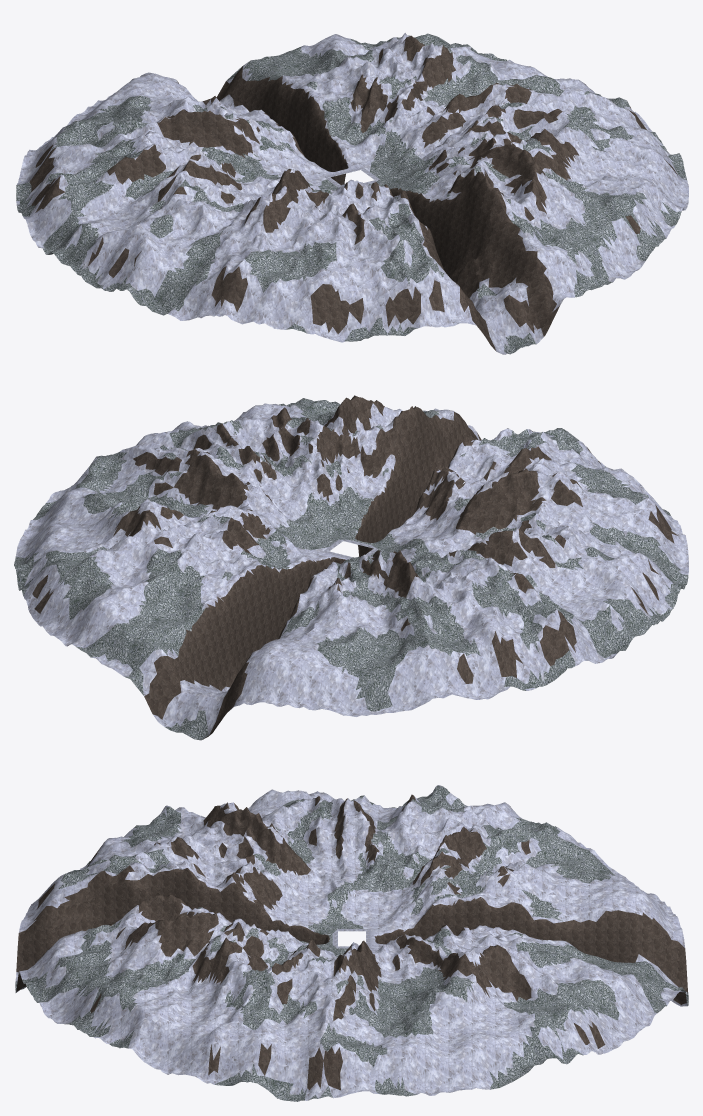
File: backdrop_near_rect_desert_winter.glb
3 views of the same model, one above another, from view 1: azimuth 30°, elevation 25°; view 2: azimuth 150°, elevation 25°; view 3: azimuth 270°, elevation 25° (orthographic).
Visible parts, largest first — view 1: near_land_S, near_land_W, near_land_E, near_land_N; view 2: near_land_N, near_land_W, near_land_E, near_land_S; view 3: near_land_E, near_land_S, near_land_N, near_land_W.
Boxes of the visible parts, <box> form: near_land_S: <box>265,132,676,354</box>; near_land_W: <box>16,109,338,324</box>; near_land_E: <box>357,35,688,223</box>; near_land_N: <box>28,33,431,185</box>; near_land_N: <box>25,516,439,740</box>; near_land_W: <box>369,468,688,699</box>; near_land_E: <box>14,403,350,599</box>; near_land_S: <box>271,395,672,557</box>; near_land_E: <box>113,922,589,1101</box>; near_land_S: <box>15,825,337,1046</box>; near_land_N: <box>370,827,688,1054</box>; near_land_W: <box>138,785,589,932</box>.
Size of the model in its own units: 579 by 168 by 577.
4 materials, 4 textured.
